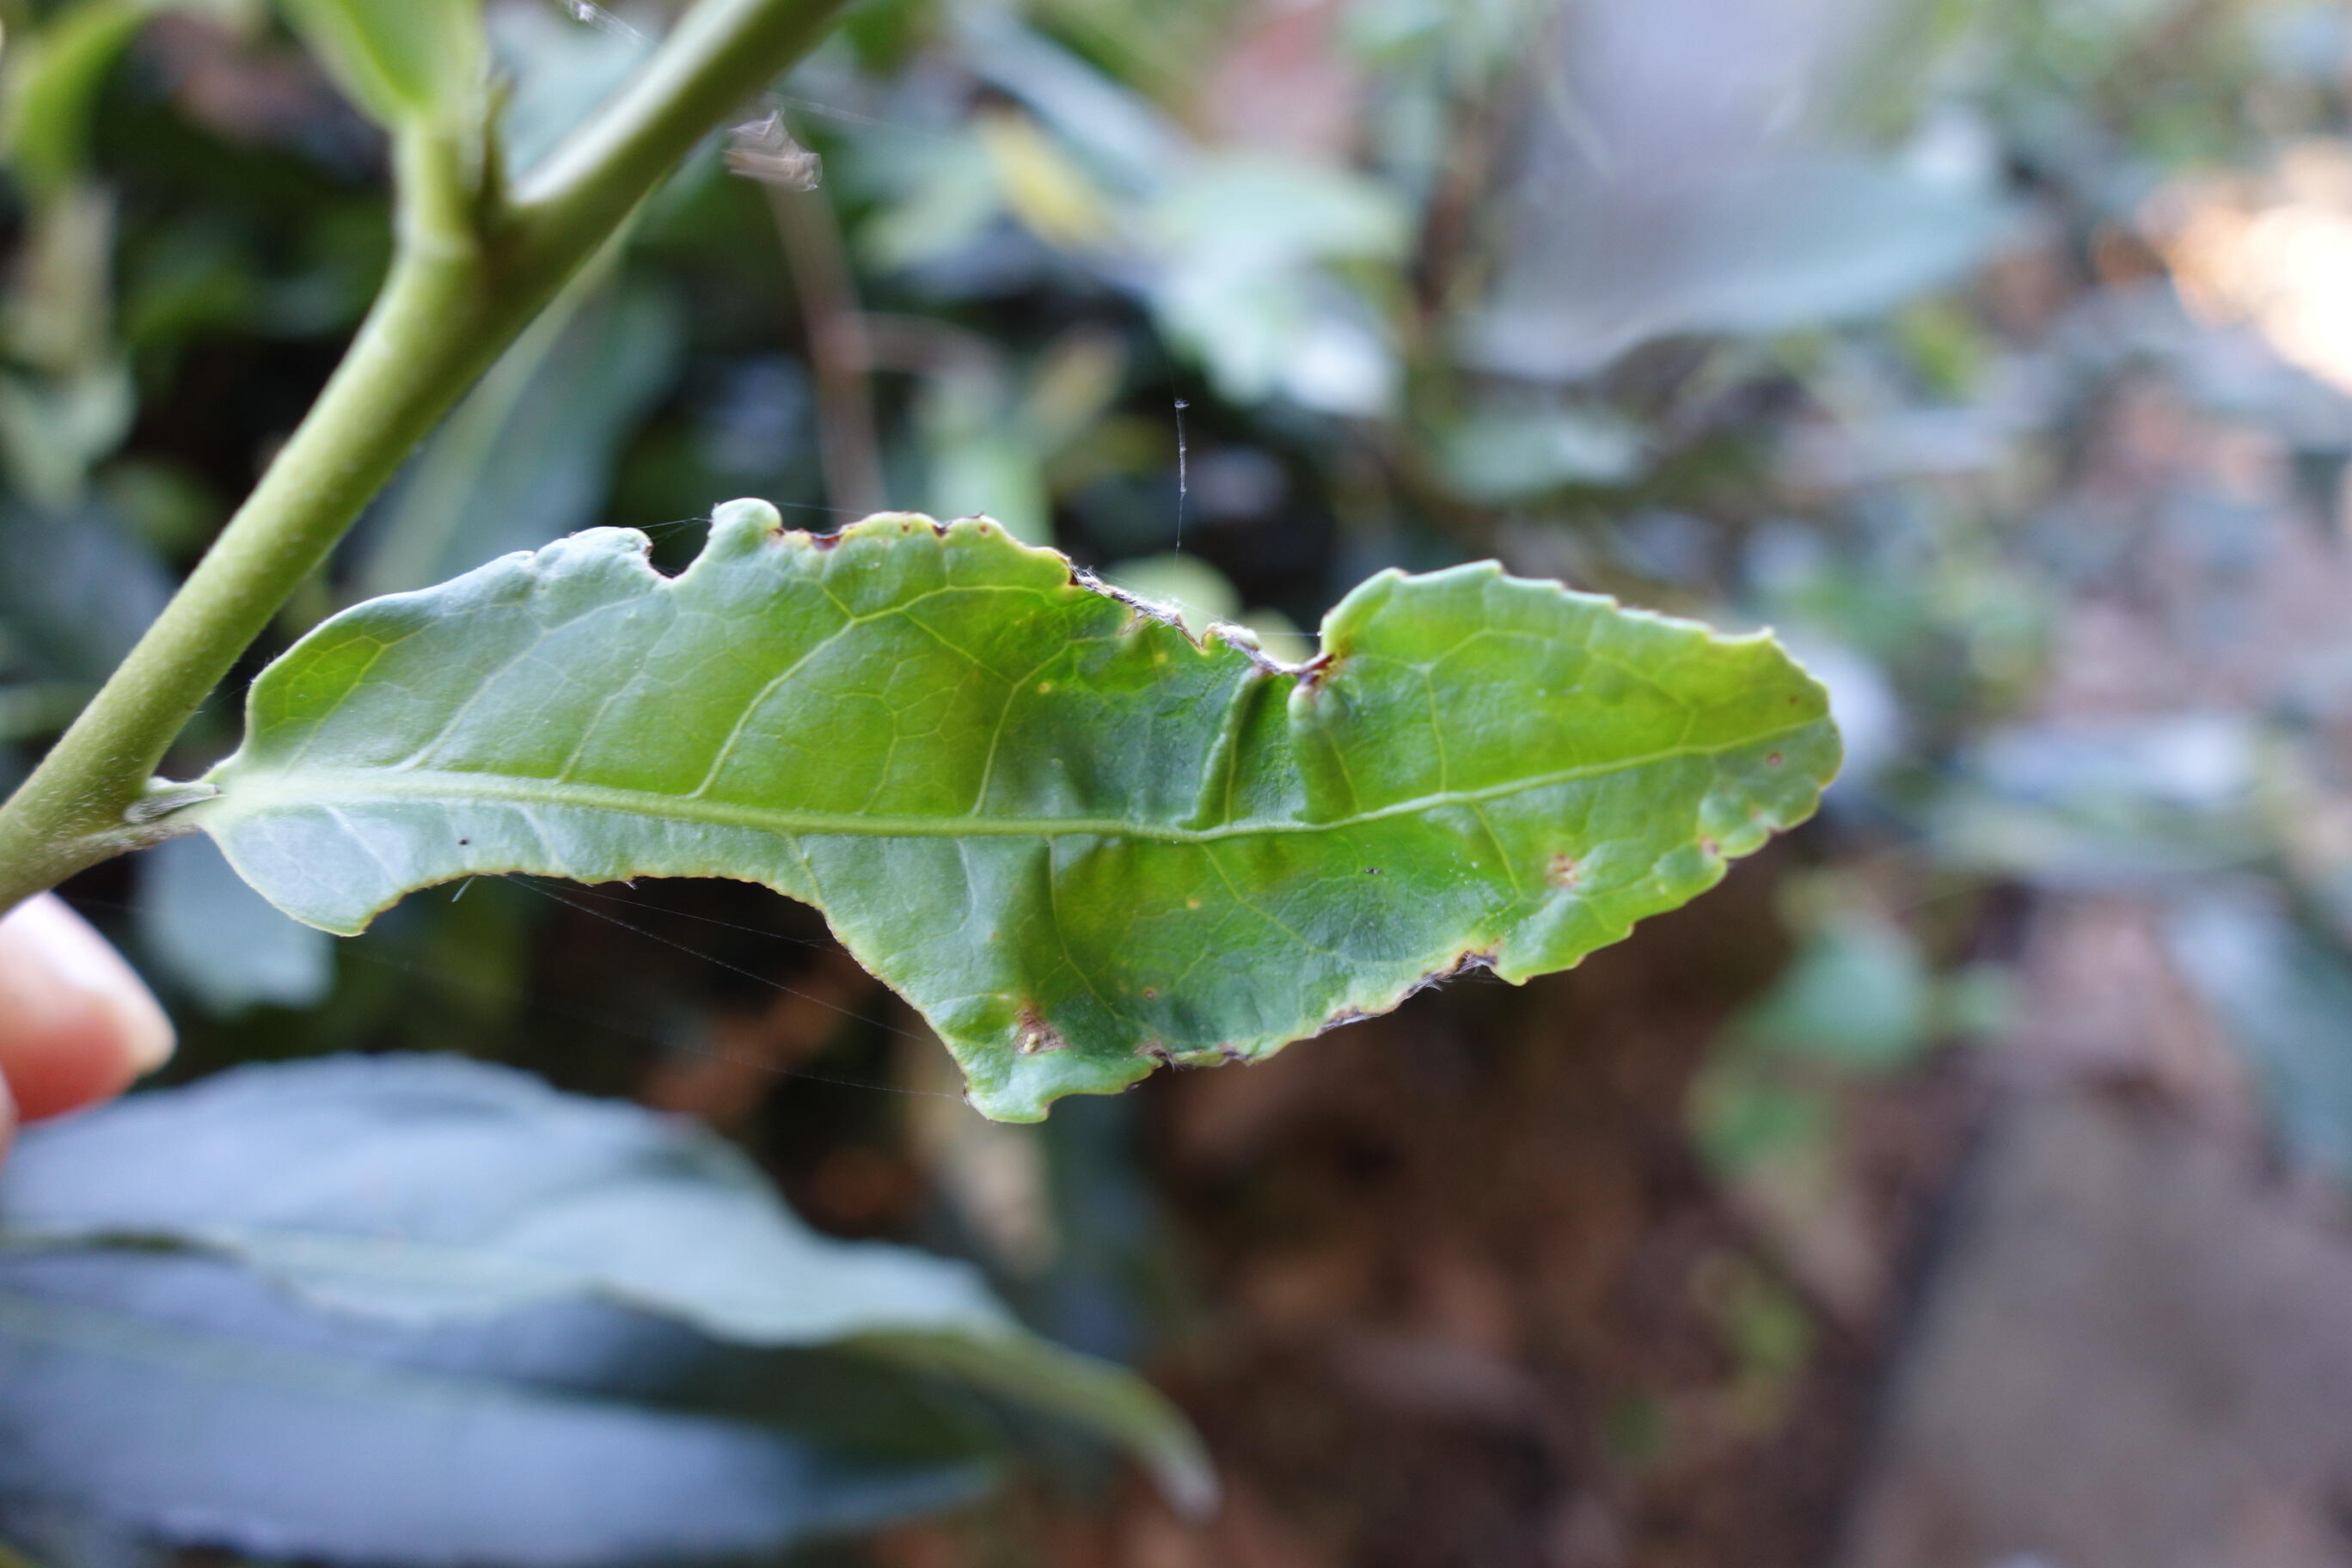chihuo_high: (212, 492, 1850, 1132)
